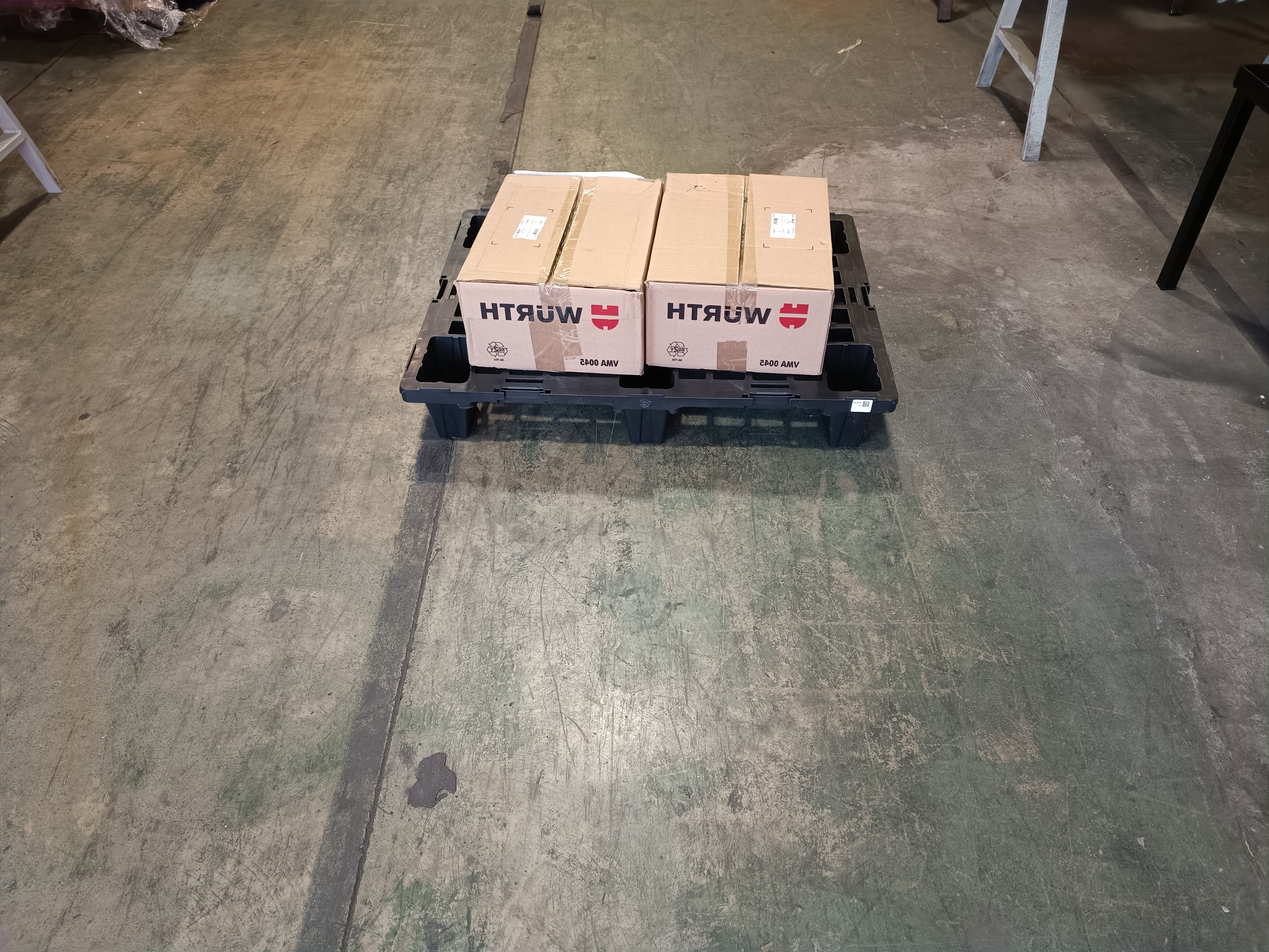block: (621, 401, 685, 448), (424, 398, 485, 440), (825, 414, 874, 453)
front: (398, 395, 907, 453)
hole pallet: (472, 405, 627, 440), (674, 416, 827, 448)
